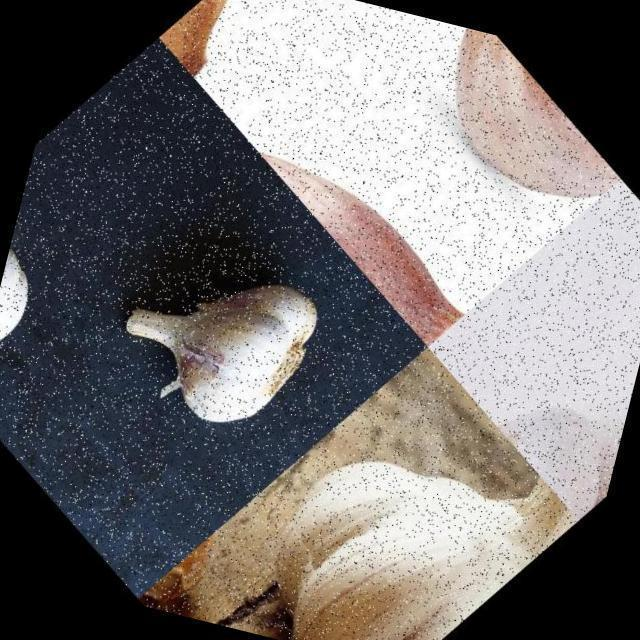garlic: (192, 323, 606, 640), (195, 76, 516, 354), (82, 186, 372, 478), (349, 9, 640, 255), (454, 338, 636, 524), (0, 195, 88, 407)
